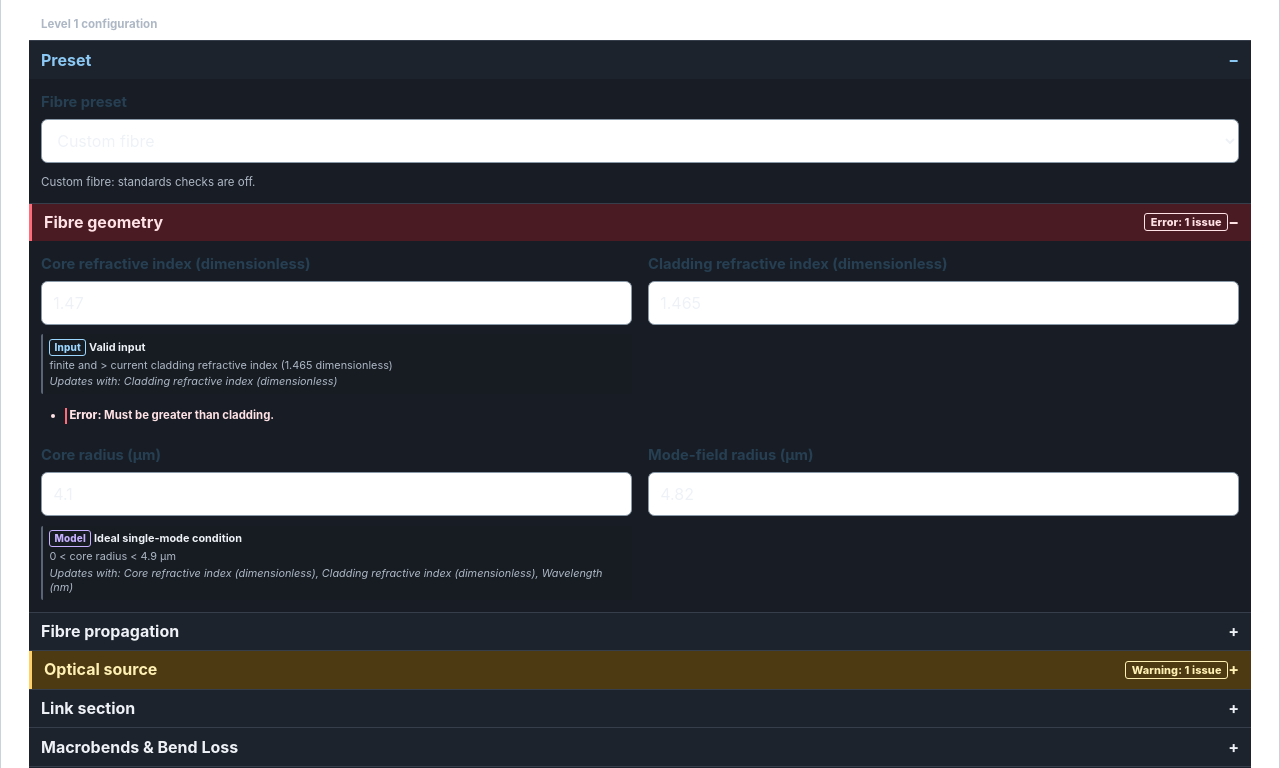
Test: Level1Form inspector accordion › links boundary and issue descriptions while preserving error-only invalid state
Click the button "Optical source Warning: 1 issue +": (101, 669) [29,651,1251,689]
(page scrolled)
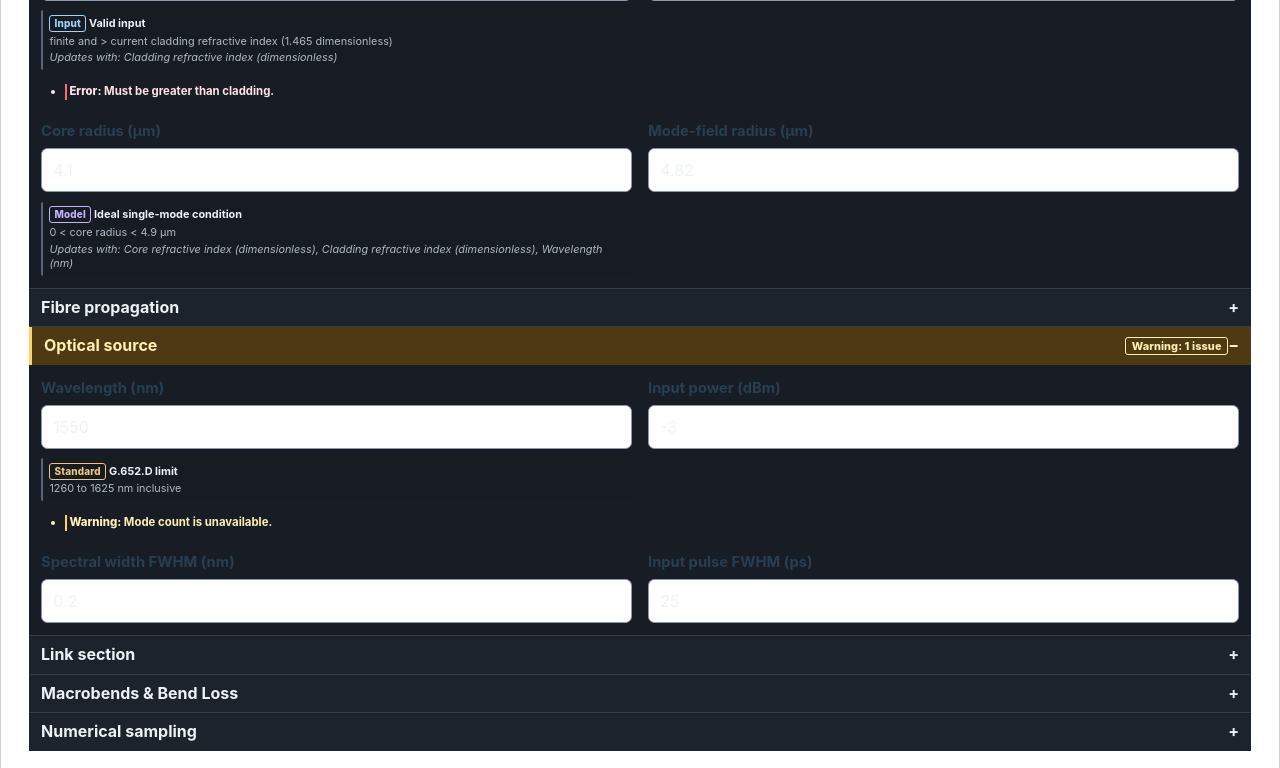
Expected: the list item "Mode count is unavailable." is shown, [124,515,272,529]
